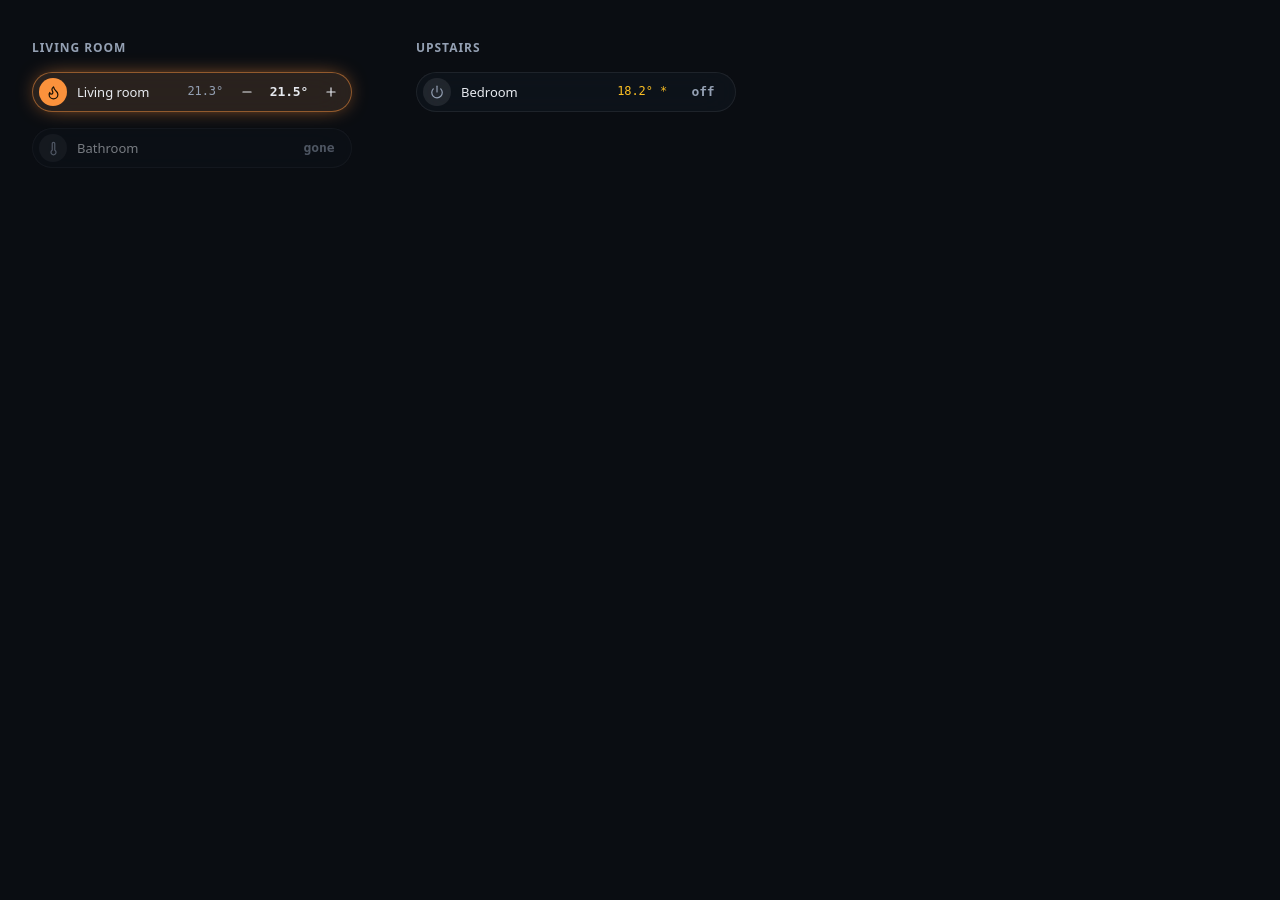
Test: sets the target by the slider in the details, gathered as taps are
The width and height of the screenshot is (1280, 900).
Click the button "Living room 21.3°" at (131, 92), box [39,73,223,111]
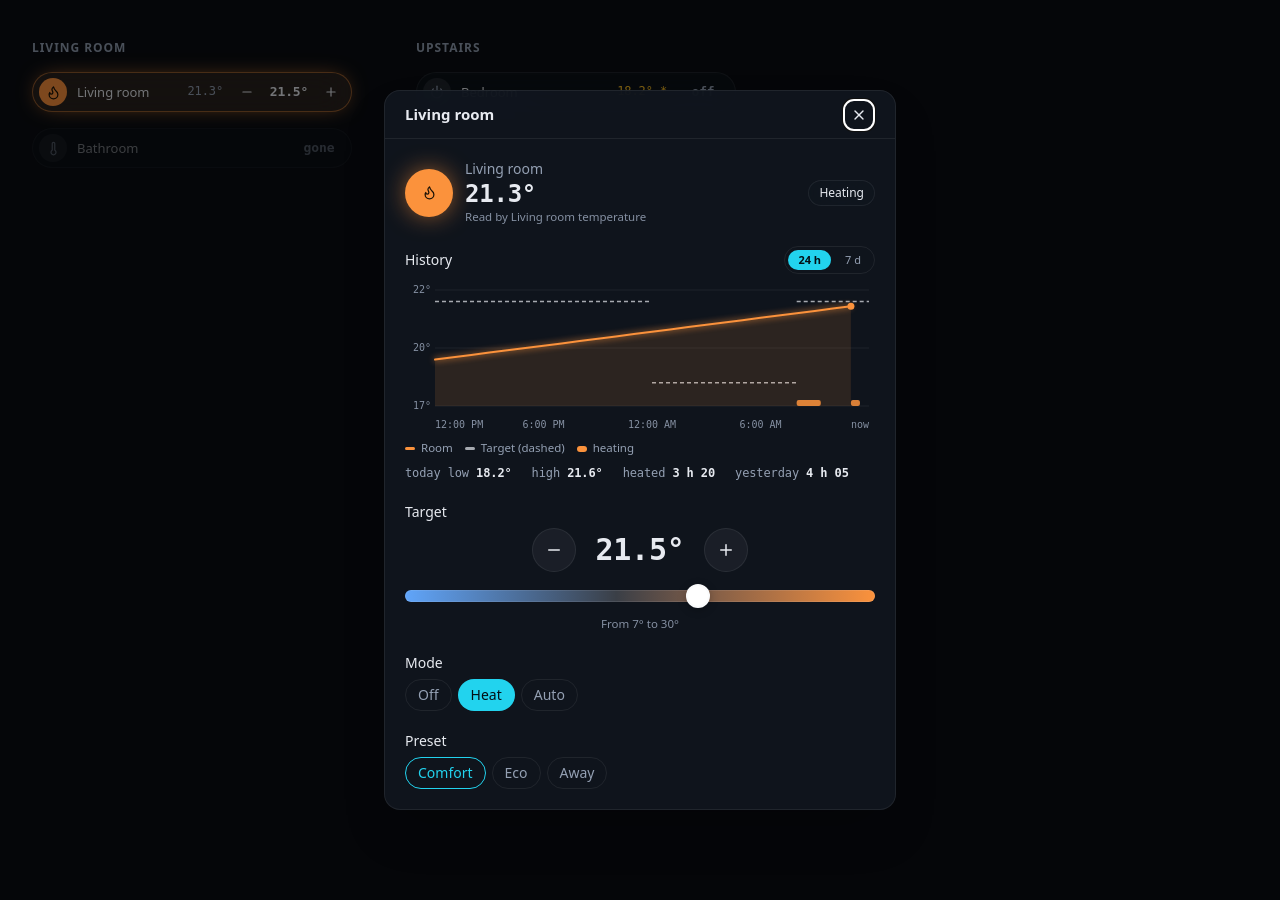
Set the slider named "Target" to "19" at (650, 596), box [405,582,875,610]
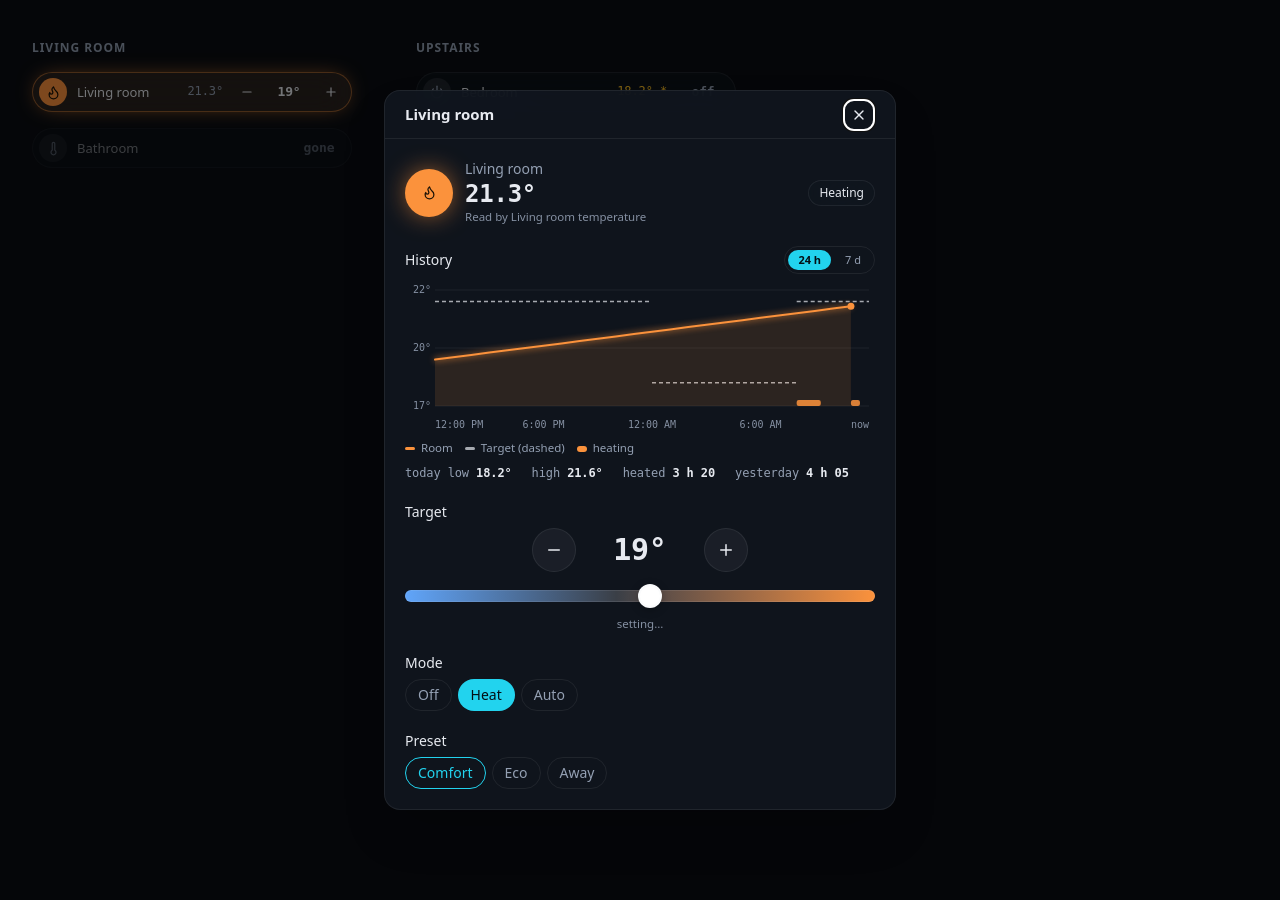
Set the slider named "Target" to "19.5" at (660, 596), box [405,582,875,610]
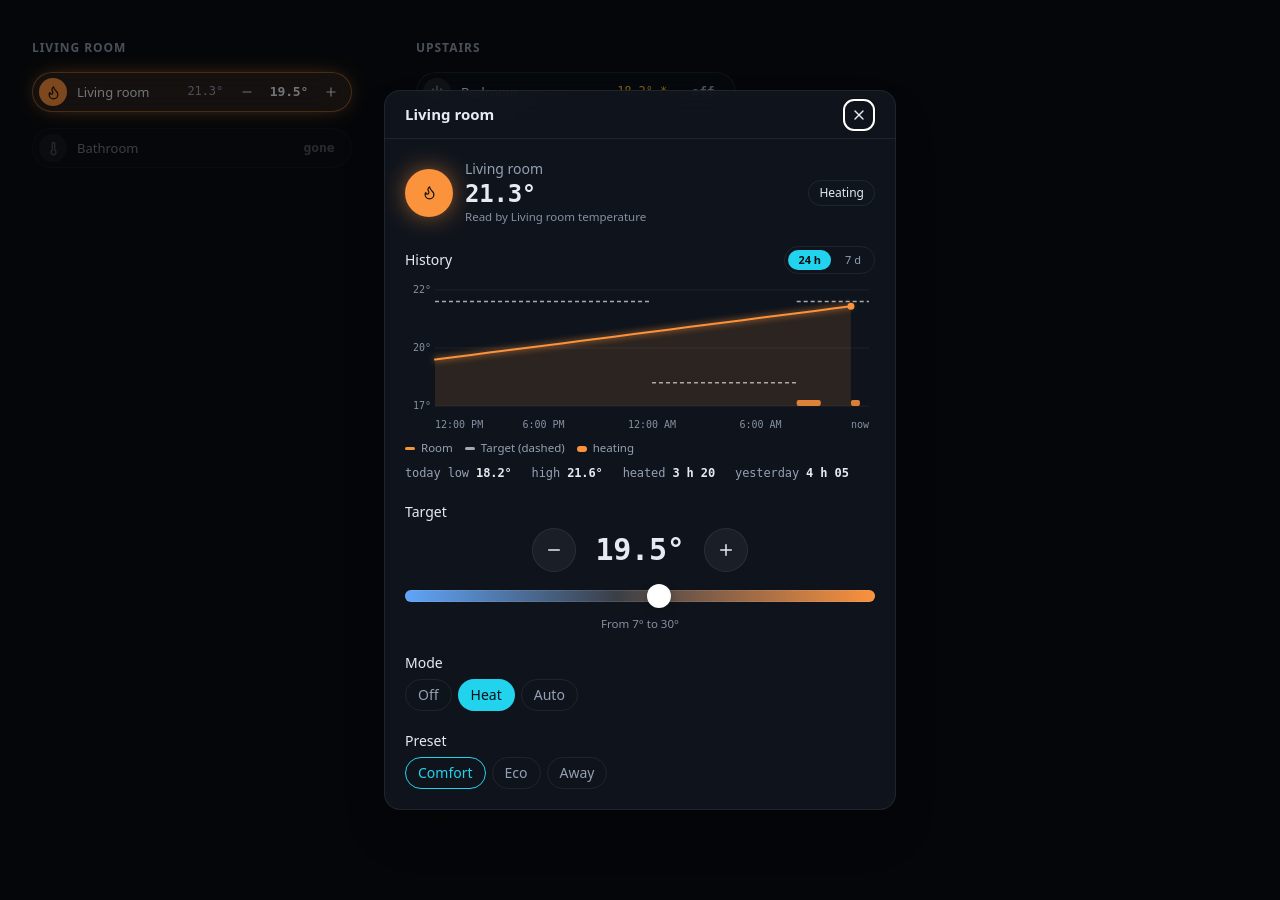
Result: the text "19.5°" is shown at [592,532,688,568]
